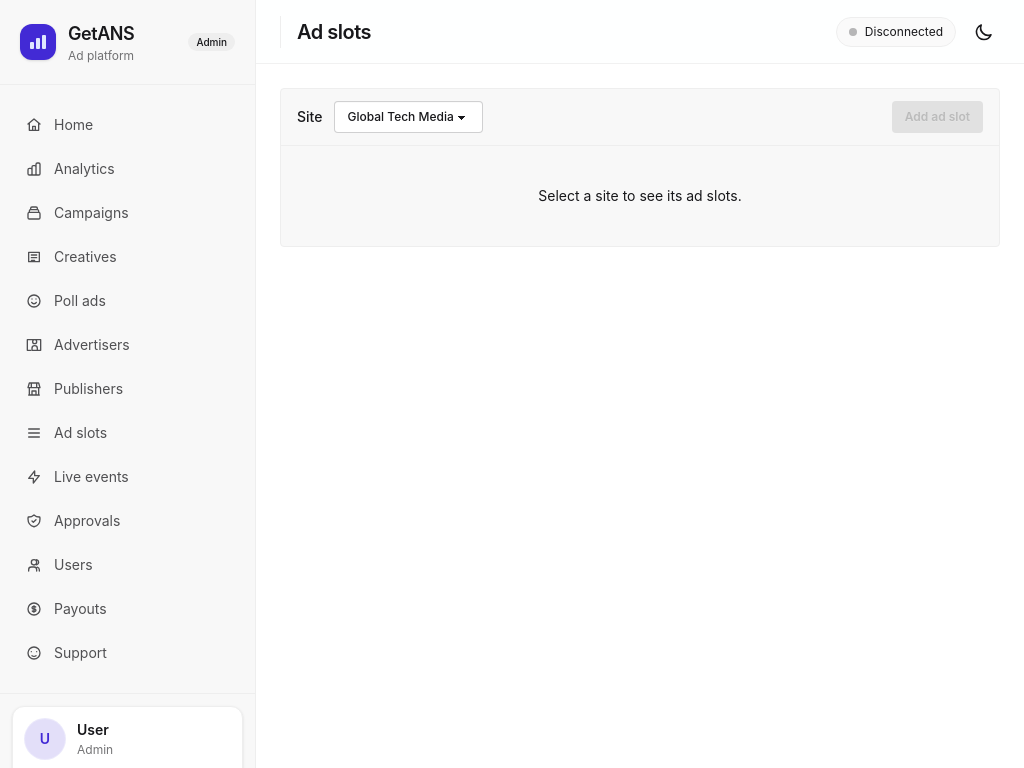
publisher list and detail › shows the key, payout details and ad slots for the selected publisher
Select "Global Tech Media" in the dropdown named "Select site for ad slots": (409, 117) [334,101,483,133]
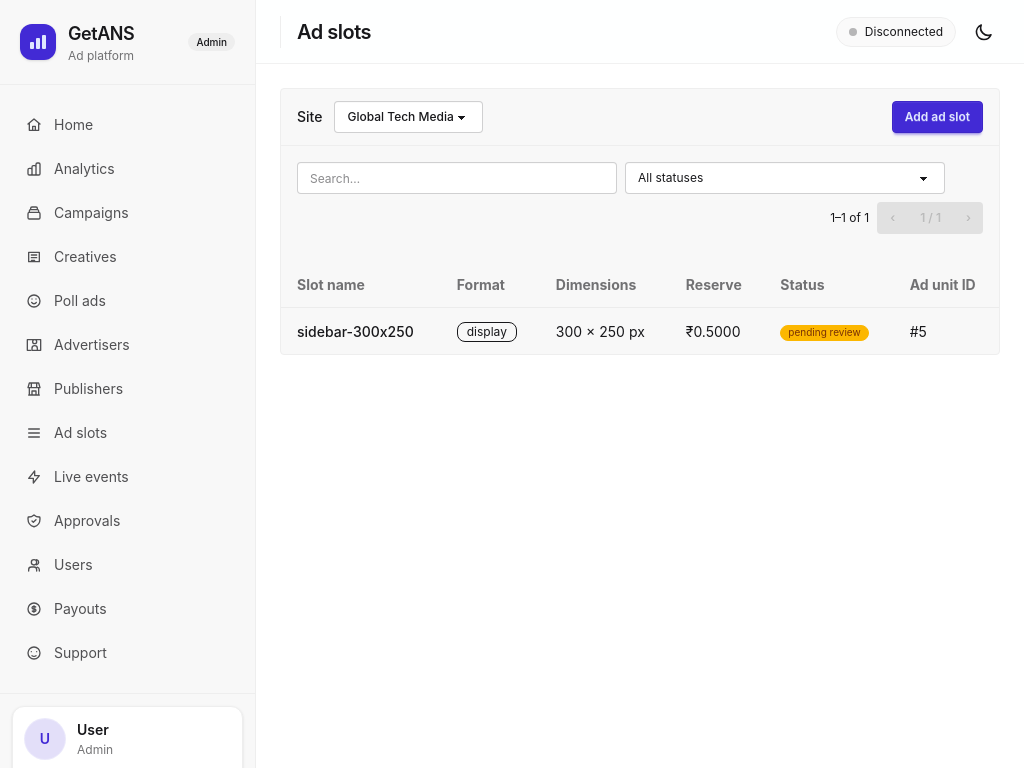
expect the text "sidebar-300x250" is shown: met, box [281,308,441,354]
expect the text "300 × 250 px" is shown: met, box [540,308,670,354]
expect the text "₹0.5000" is shown: met, box [670,308,764,354]
